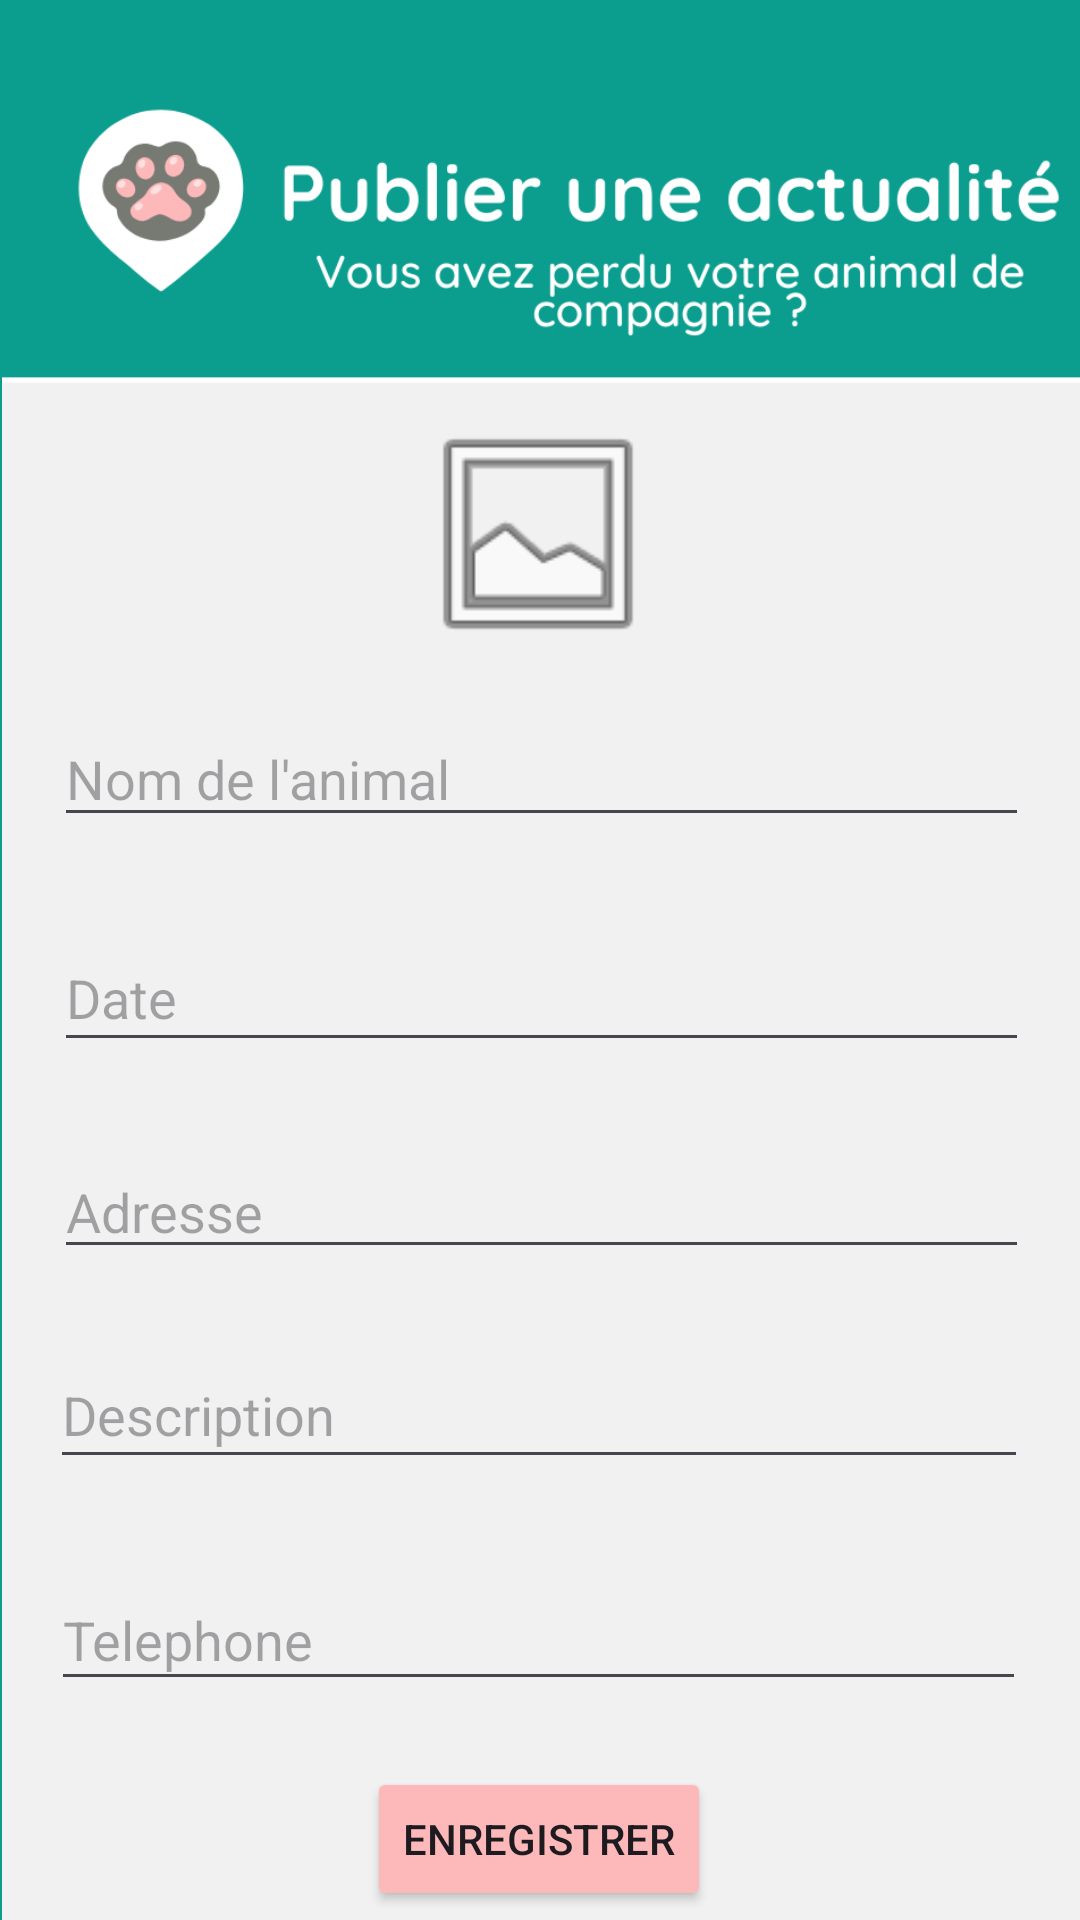

Icons on this 1080px×1920px Android screen, each with its box as [x1, y1, x2, y2]:
gallery: [443, 439, 633, 629]
